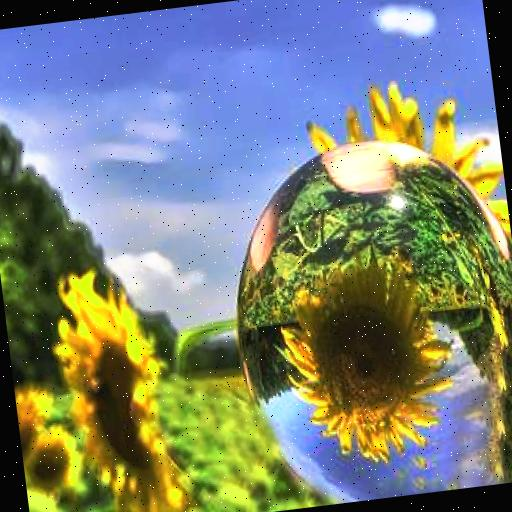sunflower: (272, 242, 454, 461), (50, 259, 180, 512)
